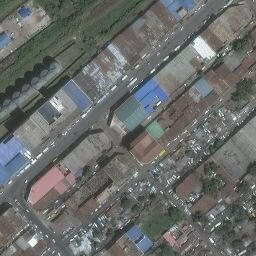tree: (202, 178, 219, 196), (204, 160, 220, 176), (192, 211, 209, 225), (232, 38, 247, 53), (168, 206, 183, 219), (237, 181, 248, 192), (231, 239, 243, 249), (223, 221, 234, 231), (120, 199, 130, 208), (132, 205, 141, 214), (209, 145, 217, 154), (159, 242, 168, 250), (215, 227, 224, 235), (227, 230, 235, 238), (148, 193, 156, 200), (82, 171, 89, 177), (137, 196, 144, 202)
